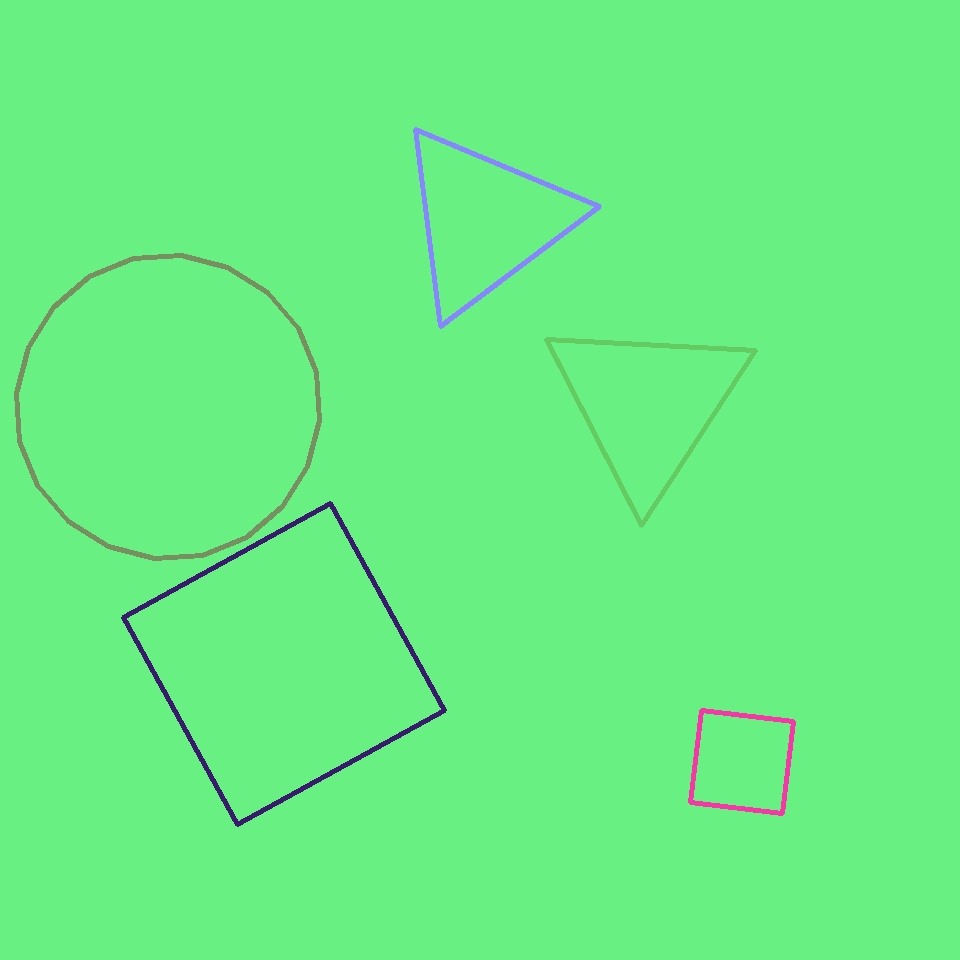circle: (544, 312, 753, 498), (393, 122, 577, 319)
square: (124, 503, 444, 824), (691, 710, 794, 813)
triangle: (16, 255, 319, 558)
